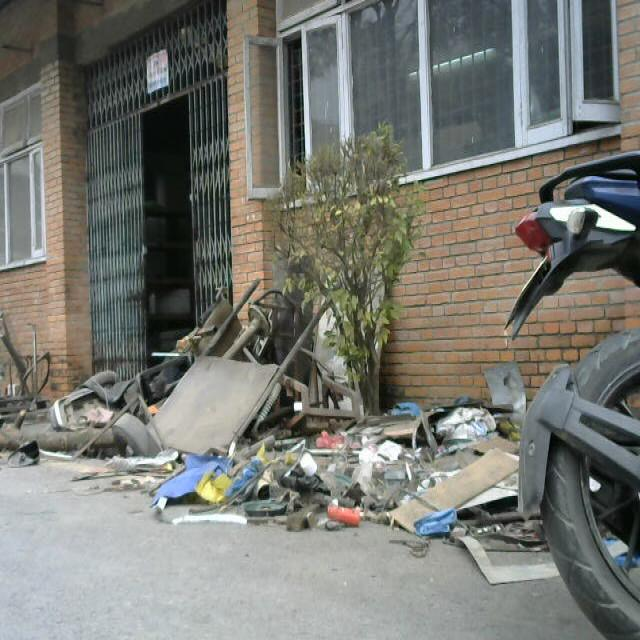Buildings: (0, 4, 561, 242)
small-obstacles: (3, 319, 542, 559)
trees: (266, 121, 485, 400)
